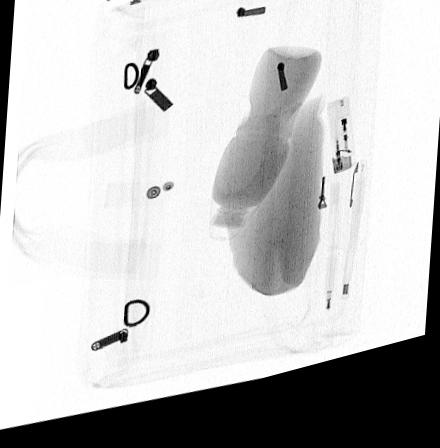Lighter: (327, 113, 357, 191)
